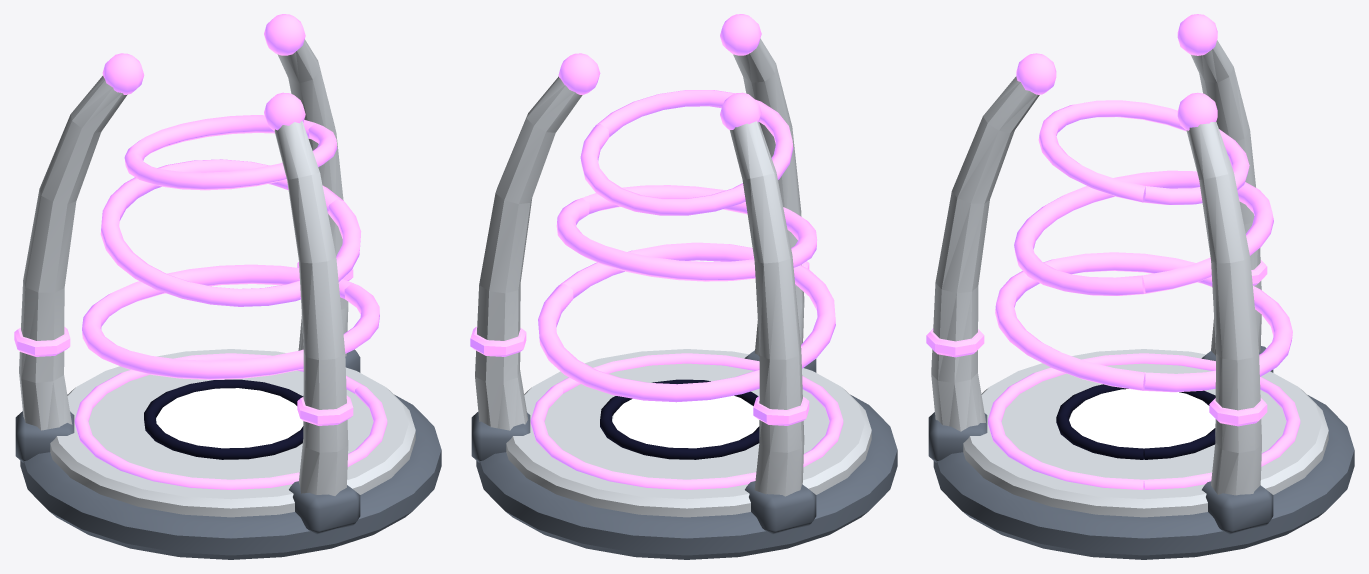
Rendered from Equip_gravity_dojo.glb.
3 renders of one model, left to right at view 1: azimuth 30°, elevation 25°; view 2: azimuth 150°, elevation 25°; view 3: azimuth 270°, elevation 25°, orthographic.
Visible parts, largest first — view 1: White_E8EEF5, Purple_A66BFF, Steel_6B7686, Glow_E2CCFF, Ink_0D0F2B; view 2: White_E8EEF5, Purple_A66BFF, Steel_6B7686, Glow_E2CCFF, Ink_0D0F2B; view 3: White_E8EEF5, Purple_A66BFF, Steel_6B7686, Glow_E2CCFF, Ink_0D0F2B.
Part boxes in pixels (box(x1,y1,x2,y2)): White_E8EEF5: box(19, 39, 415, 517); Purple_A66BFF: box(14, 14, 387, 489); Steel_6B7686: box(15, 349, 441, 559); Glow_E2CCFF: box(156, 388, 303, 448); Ink_0D0F2B: box(144, 379, 303, 459); White_E8EEF5: box(475, 38, 871, 517); Purple_A66BFF: box(470, 14, 843, 489); Steel_6B7686: box(471, 350, 897, 559); Glow_E2CCFF: box(612, 395, 759, 448); Ink_0D0F2B: box(600, 379, 759, 459); White_E8EEF5: box(931, 40, 1328, 517); Purple_A66BFF: box(926, 14, 1300, 489); Steel_6B7686: box(928, 346, 1354, 559); Glow_E2CCFF: box(1069, 389, 1215, 448); Ink_0D0F2B: box(1056, 384, 1215, 459).
Size of the model in its own units: 9 by 9.9 by 9.15.
